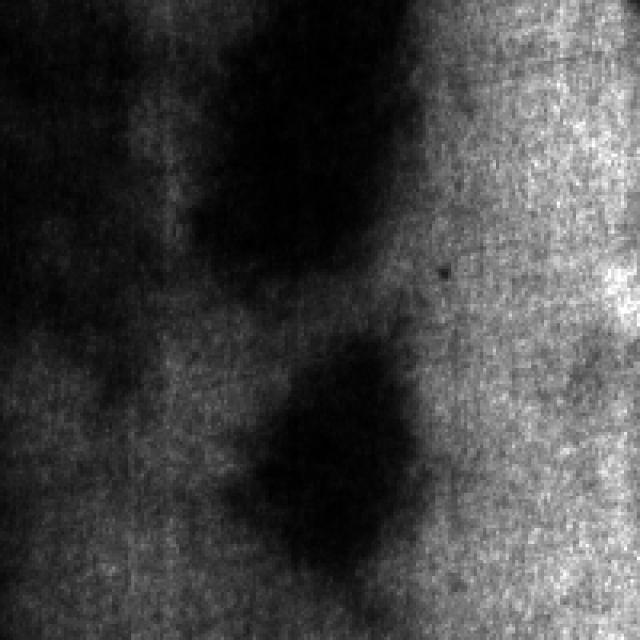patches: (180, 0, 432, 284), (9, 8, 190, 398), (240, 328, 428, 566)
